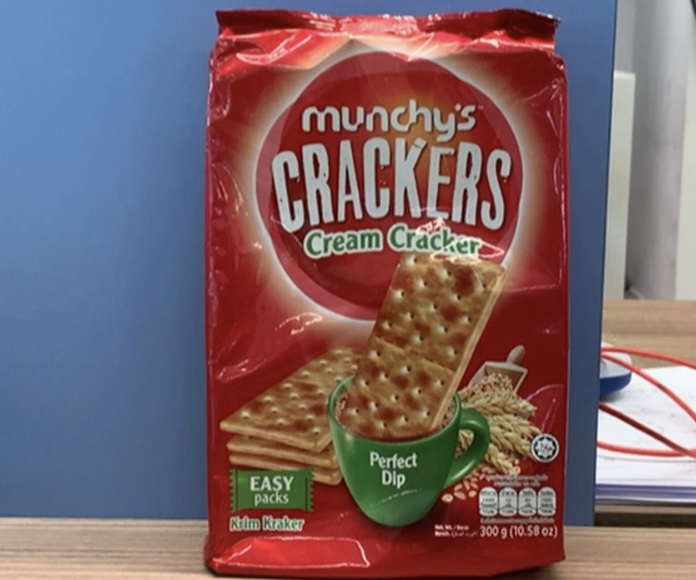crackers_150g: (222, 83, 560, 551)
